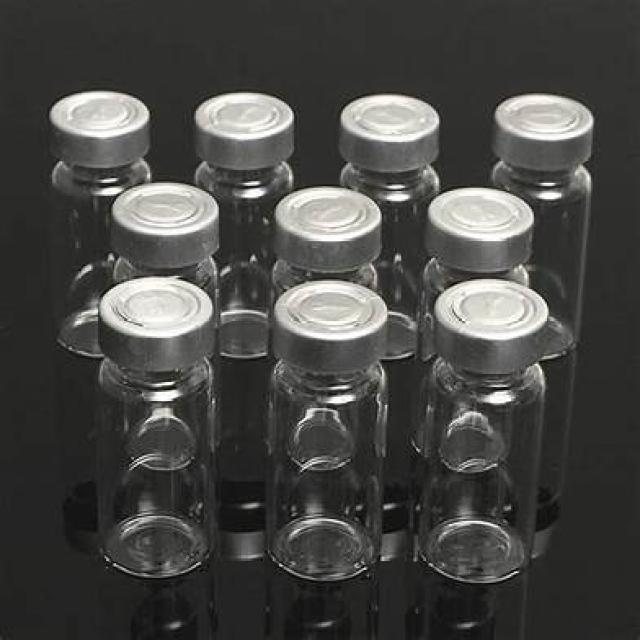vial: (270, 189, 388, 267), (104, 276, 220, 349), (340, 85, 452, 160), (428, 186, 536, 260), (50, 93, 156, 158), (496, 96, 596, 162), (122, 188, 222, 253), (442, 282, 546, 344), (281, 282, 374, 348), (195, 90, 292, 147)
